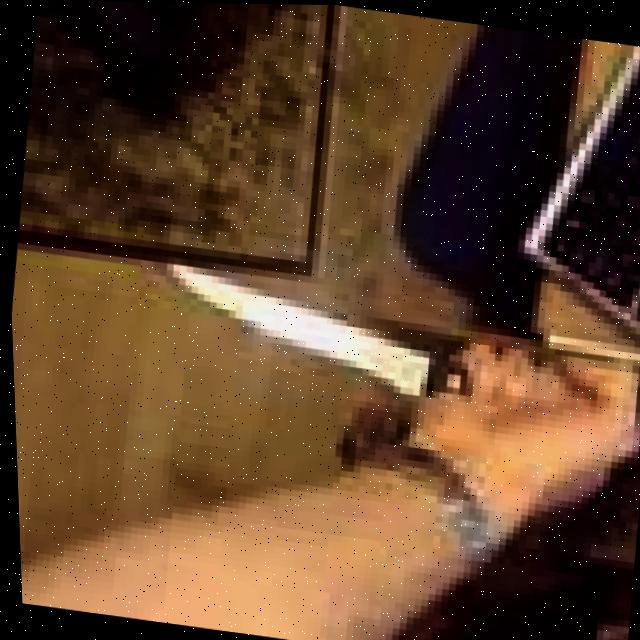knife: (145, 254, 438, 400)
